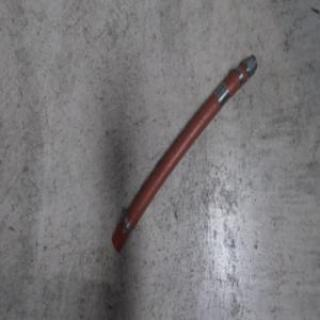Hosetrack_idkeyframe: (109, 52, 257, 256)
